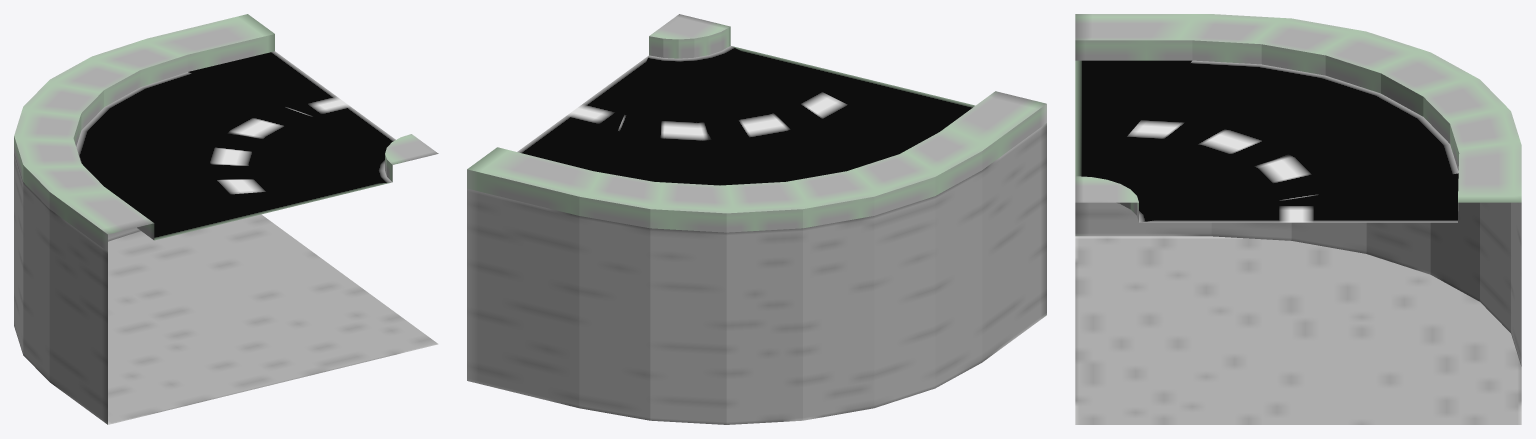
File: roadBend.fbx
3 views of the same model, side by side, from view 1: azimuth 30°, elevation 25°; view 2: azimuth 150°, elevation 25°; view 3: azimuth 270°, elevation 25° (orthographic). The views are drawn at different scales.
Visible parts, largest first — view 1: Road90Bend; view 2: Road90Bend; view 3: Road90Bend.
Boxes of the visible parts, <box> form: Road90Bend: <box>14,14,438,424</box>; Road90Bend: <box>467,14,1046,424</box>; Road90Bend: <box>1075,14,1521,424</box>.
Bounding box in the file's own units: 200 × 110 × 200.
